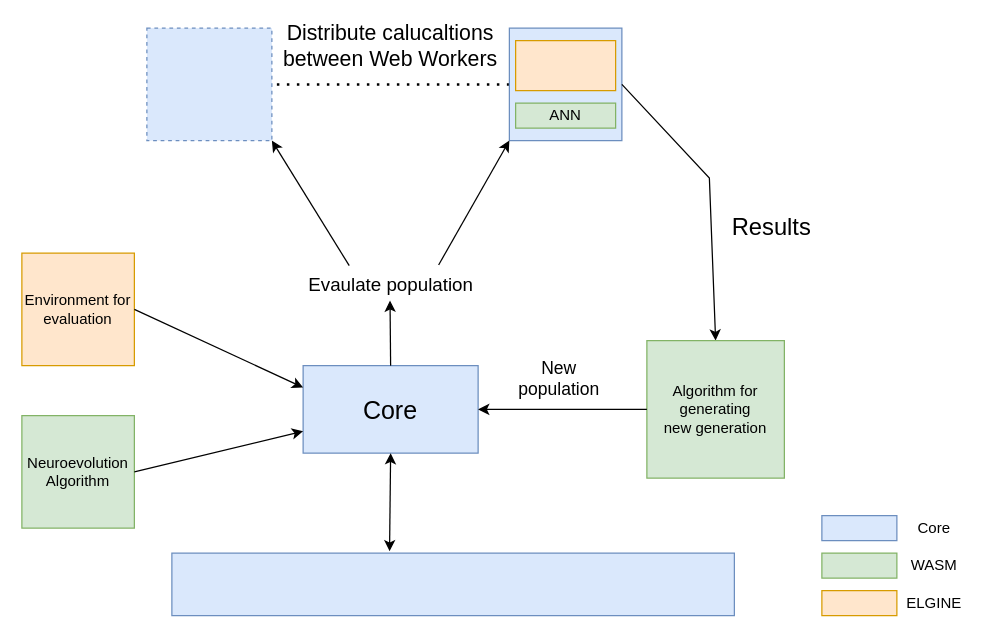
Some shapes in this 994 by 638 pixel diagram are drawn without their labels. Here are the shapes that lost their labels. From the top down, the centre of each, then its label:
the point at 565,65: Evaluation Environment
the point at 452,584: API
